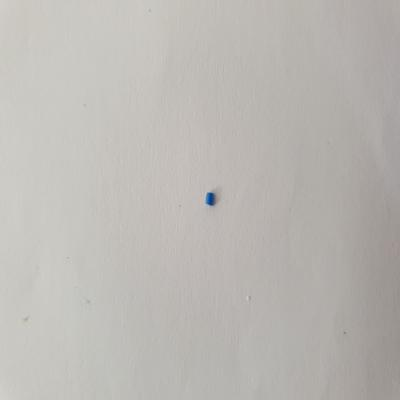plastic: (204, 189, 219, 209)
